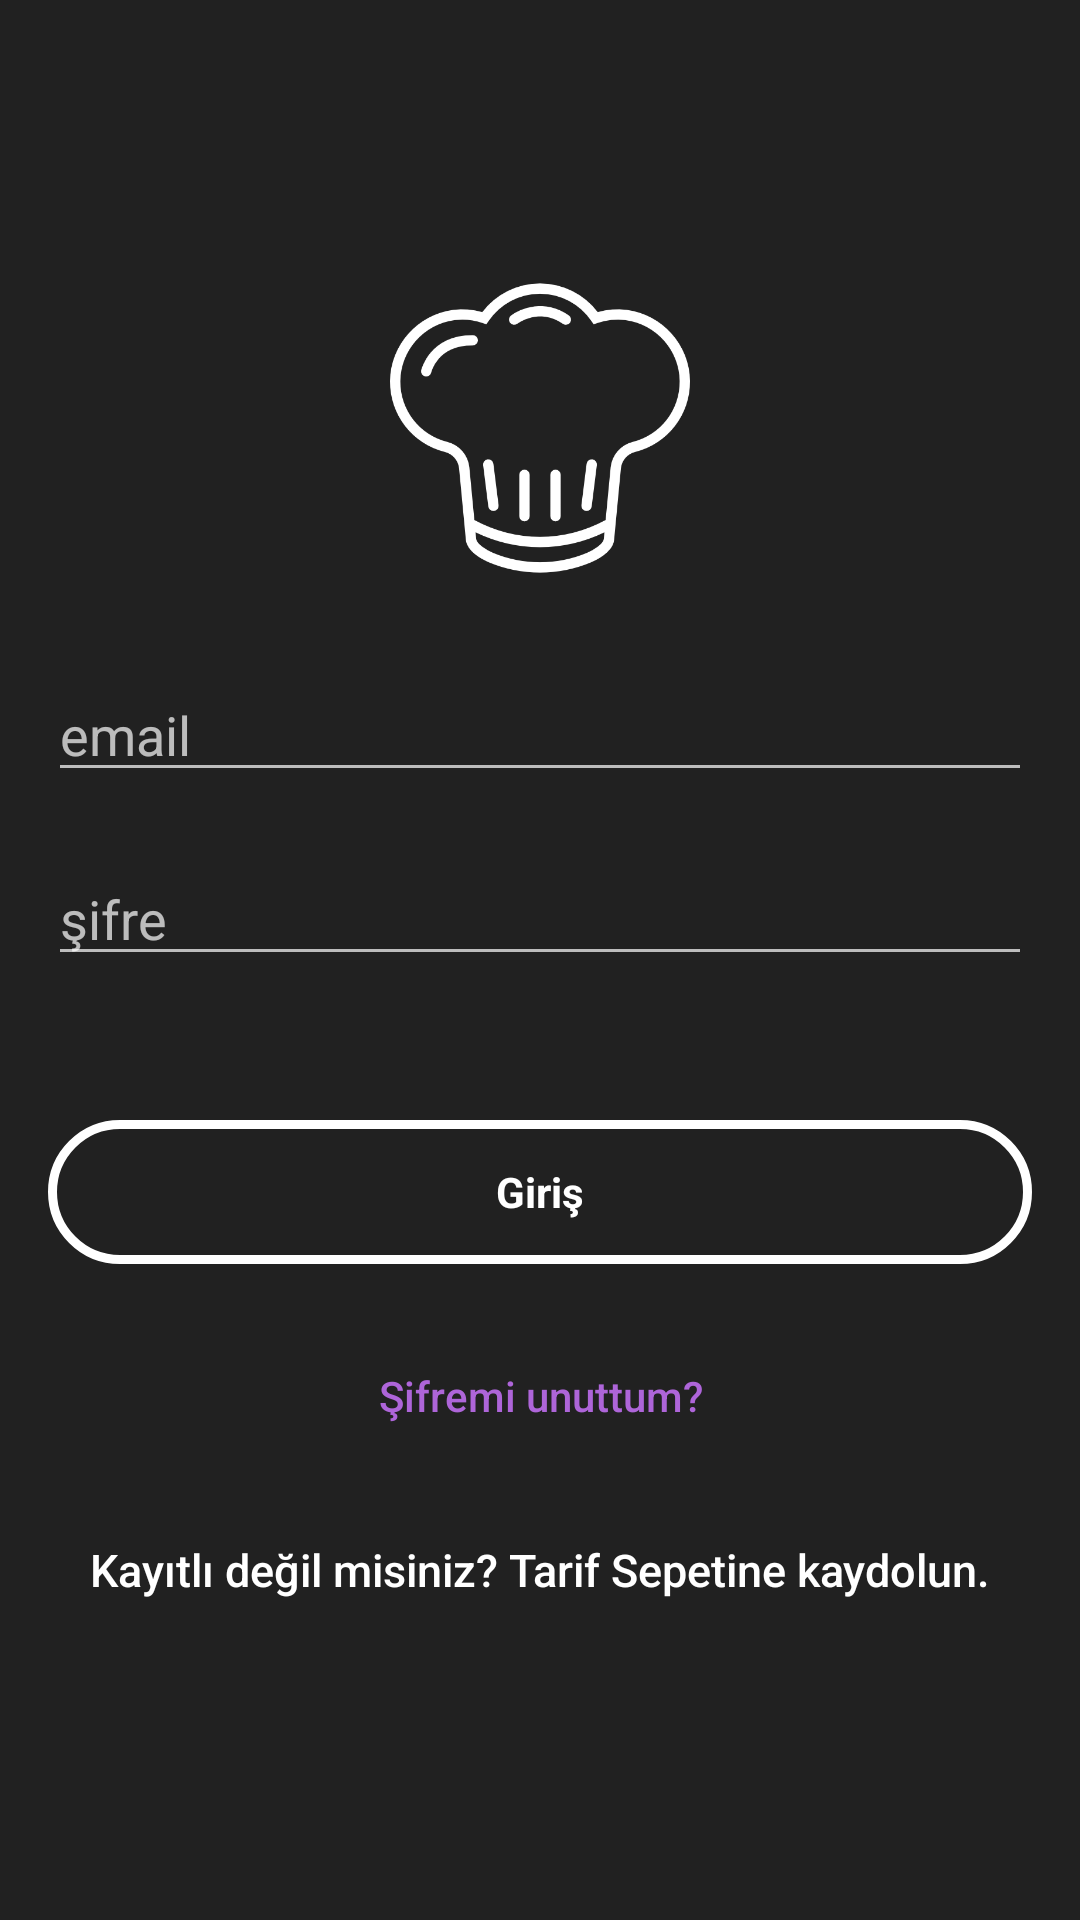

Named icons in this screenshot (1080 × 1920) and their centers, point (x, y):
chef: point (540, 428)
